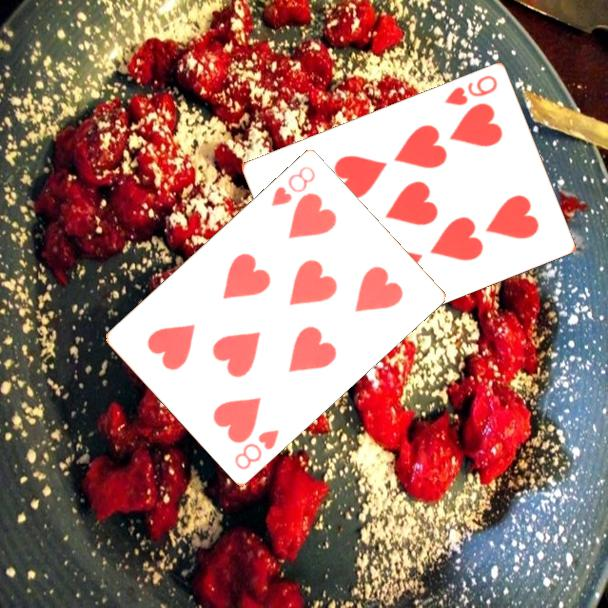h08: (268, 162, 319, 209), (231, 426, 282, 472)
h09: (441, 71, 500, 108)
